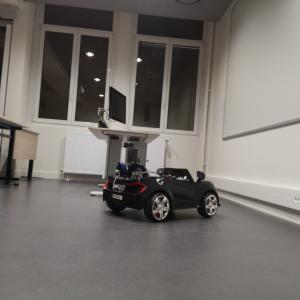big: (100, 160, 222, 223)
